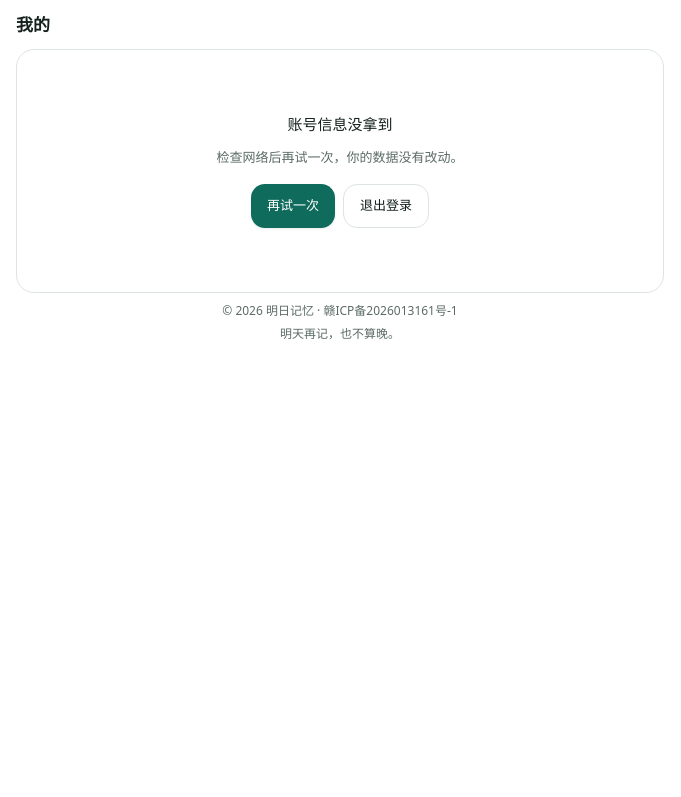
M 组 · :998 访客引导条（B 区替换）与 :1001 拉取失败整页错误卡（T-19g-v 接线） › M-04 :1001 错误卡：钮 2 颗是全页唯一可点面；「再试一次」= refetch（retry:1 用尽才出卡，query 配置未动）；恢复后整页回来
The width and height of the screenshot is (681, 797).
Expected: the element with test id "me-fetch-fail" is shown, [216,114,464,228]
Click the button "再试一次": (293, 206) [251,184,335,228]
Wait 80 ms
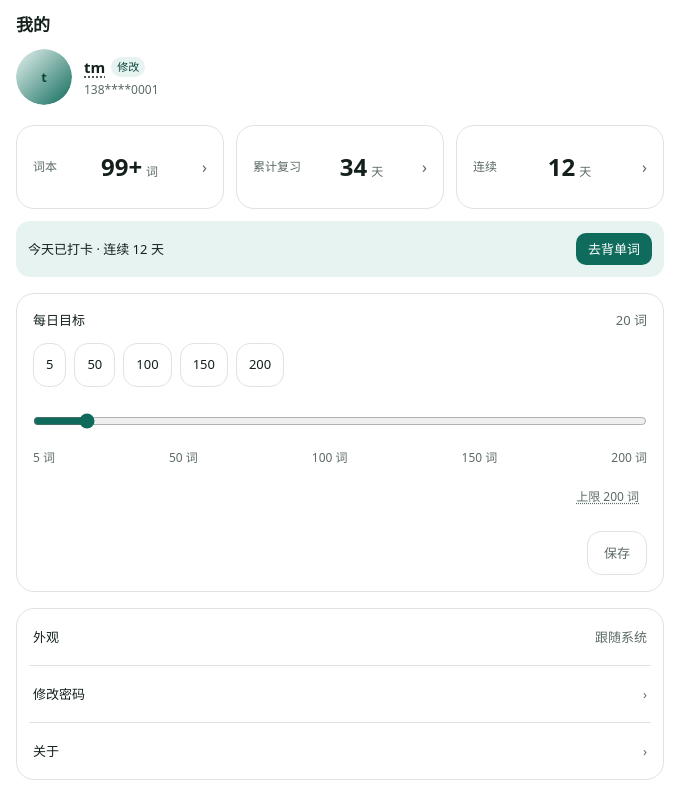
Now the element with test id "me-fetch-fail" is gone
